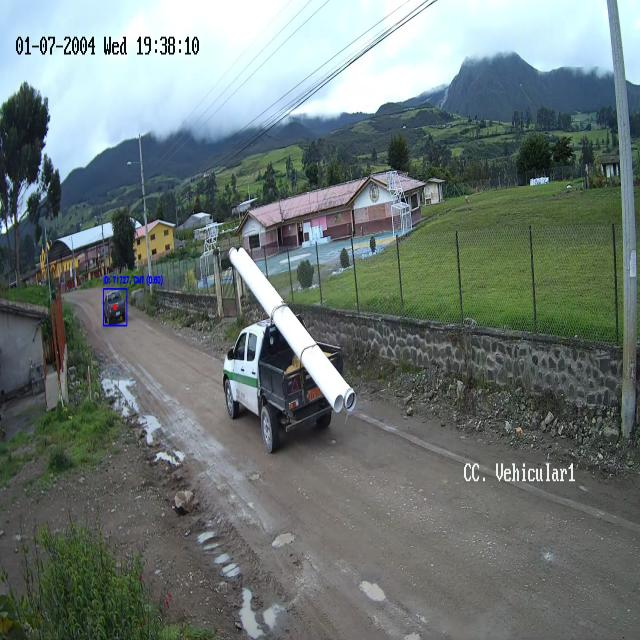CMT: (224, 313, 353, 451)
